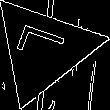L_E: (13, 26, 74, 73)
